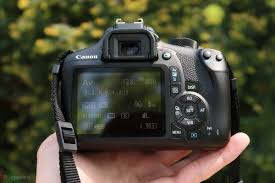camera: (57, 19, 232, 150)
